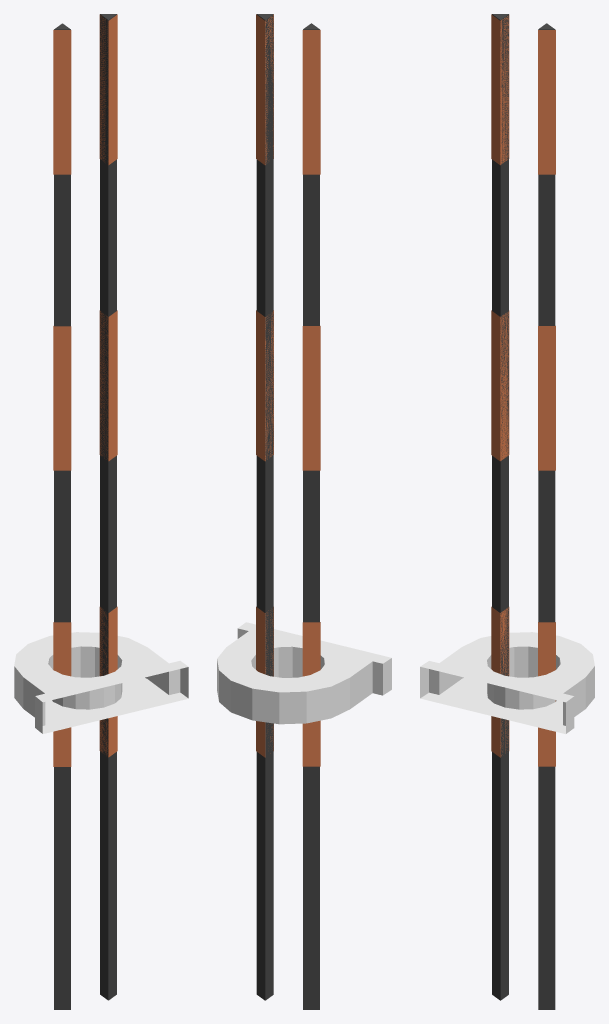
Rendered from 铁芯传感器.obj.
3 renders of one model, left to right at view 1: azimuth 30°, elevation 25°; view 2: azimuth 150°, elevation 25°; view 3: azimuth 330°, elevation 25°, orthographic.
Visible parts, largest first — view 1: Cylinder181, Donut002, Cylinder185, Cylinder187, Cylinder188, Cylinder183, Cylinder184, Cylinder182, Cylinder186; view 2: Cylinder181, Donut002, Cylinder185, Cylinder187, Cylinder188, Cylinder183, Cylinder184, Cylinder186, Cylinder182; view 3: Cylinder185, Donut002, Cylinder181, Cylinder187, Cylinder188, Cylinder183, Cylinder184, Cylinder186, Cylinder182.
Part boxes in pixels (x1=…): Cylinder181: x1=100, y1=14, x2=116, y2=1000; Donut002: x1=14, y1=632, x2=188, y2=733; Cylinder185: x1=54, y1=23, x2=70, y2=1009; Cylinder187: x1=53, y1=326, x2=71, y2=470; Cylinder188: x1=53, y1=30, x2=71, y2=174; Cylinder183: x1=99, y1=310, x2=117, y2=461; Cylinder184: x1=99, y1=14, x2=117, y2=165; Cylinder182: x1=99, y1=606, x2=117, y2=757; Cylinder186: x1=53, y1=622, x2=71, y2=766; Cylinder181: x1=256, y1=14, x2=273, y2=1000; Donut002: x1=217, y1=622, x2=391, y2=724; Cylinder185: x1=303, y1=23, x2=319, y2=1009; Cylinder187: x1=302, y1=326, x2=320, y2=470; Cylinder188: x1=302, y1=30, x2=320, y2=174; Cylinder183: x1=256, y1=310, x2=273, y2=461; Cylinder184: x1=256, y1=14, x2=273, y2=164; Cylinder186: x1=302, y1=622, x2=320, y2=766; Cylinder182: x1=256, y1=606, x2=273, y2=757; Cylinder185: x1=492, y1=14, x2=508, y2=1000; Donut002: x1=420, y1=632, x2=594, y2=734; Cylinder181: x1=538, y1=23, x2=555, y2=1009; Cylinder187: x1=491, y1=310, x2=509, y2=461; Cylinder188: x1=491, y1=14, x2=509, y2=165; Cylinder183: x1=538, y1=326, x2=555, y2=470; Cylinder184: x1=538, y1=30, x2=555, y2=174; Cylinder186: x1=491, y1=606, x2=509, y2=757; Cylinder182: x1=538, y1=622, x2=555, y2=766.
Bounding box in the file's own units: 50.38 × 323 × 39.77.
